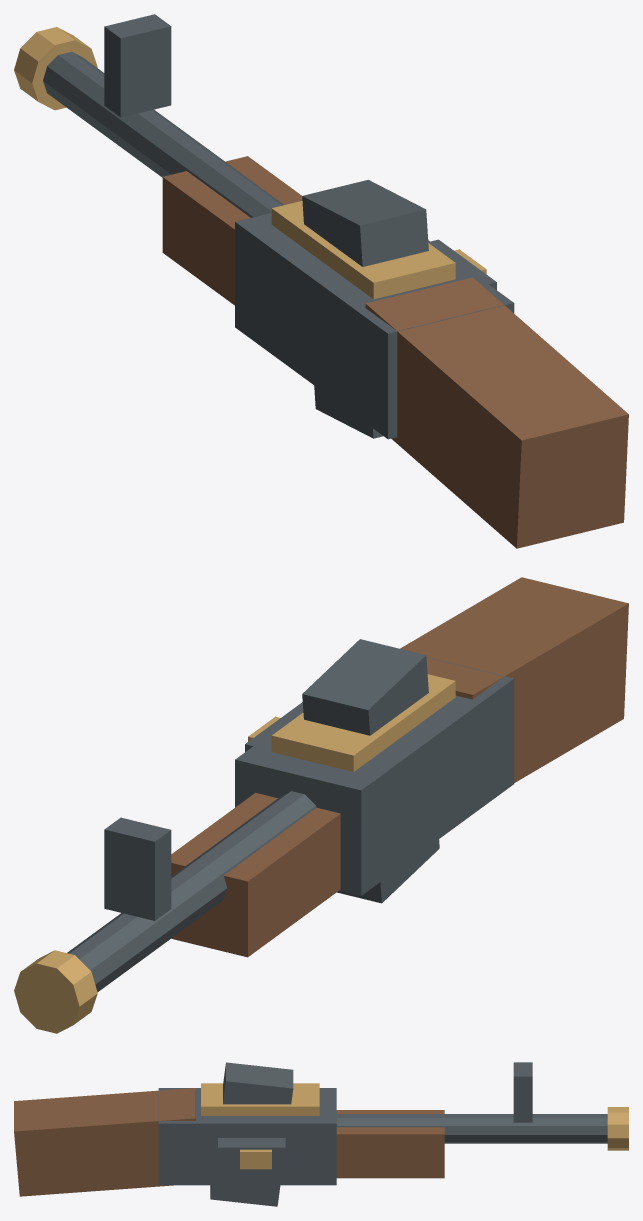
File: kara-barut-rifle.glb
3 views of the same model, one above another, from view 1: azimuth 30°, elevation 25°; view 2: azimuth 150°, elevation 25°; view 3: azimuth 270°, elevation 25° (orthographic). The views are drawn at different scales.
Parts seen in each view (by area): view 1: ReceiverGeometry, MagazineGeometry; view 2: ReceiverGeometry, MagazineGeometry, BoltGeometry; view 3: ReceiverGeometry, MagazineGeometry, BoltGeometry.
Part boxes in pixels (<box>): ReceiverGeometry: <box>14,14,628,548</box>; MagazineGeometry: <box>302,179,428,438</box>; ReceiverGeometry: <box>14,577,628,1033</box>; MagazineGeometry: <box>302,639,439,903</box>; BoltGeometry: <box>245,702,303,751</box>; ReceiverGeometry: <box>14,1062,628,1196</box>; MagazineGeometry: <box>210,1062,293,1206</box>; BoltGeometry: <box>218,1138,285,1169</box>.
Bounding box in the file's own units: 0.2675 × 0.3335 × 1.45.
